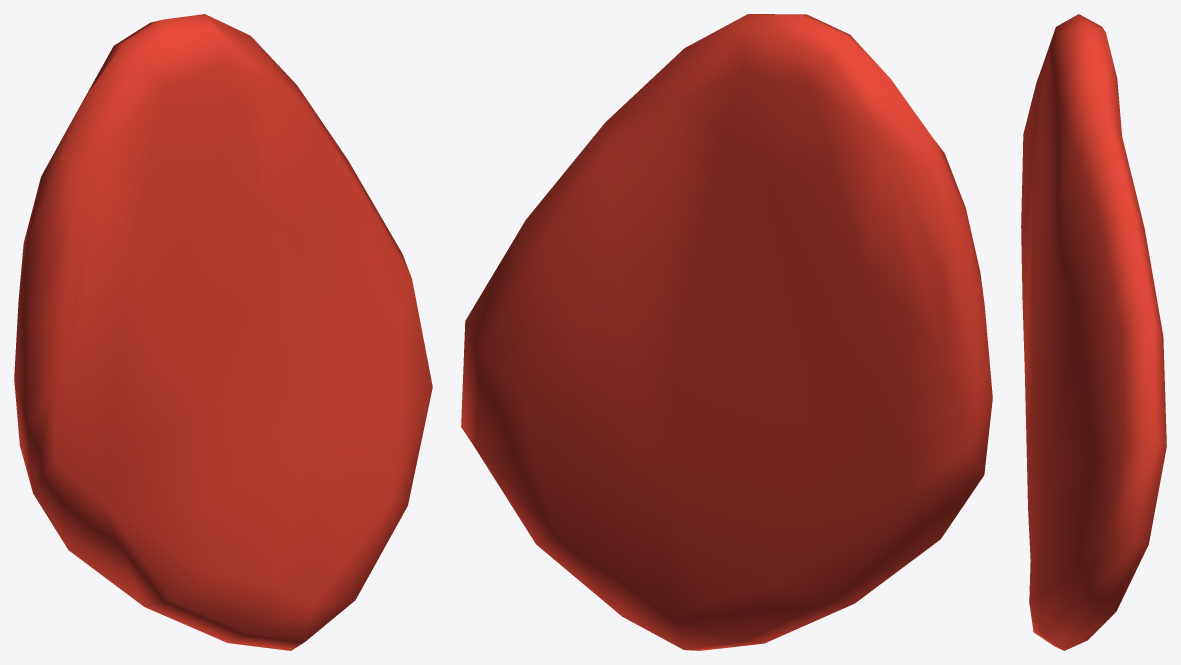
File: Flexor_pollicis_longus-Ulnar_insertion.l_Generated_Mesh_From_X3.glb
3 renders of one model, left to right at view 1: azimuth 30°, elevation 25°; view 2: azimuth 150°, elevation 25°; view 3: azimuth 270°, elevation 25°, orthographic. The views are drawn at different scales.
Parts seen in each view (by area): view 1: Flexor_pollicis_longus-Ulnar_insertion.l_Generated_Mesh_From; view 2: Flexor_pollicis_longus-Ulnar_insertion.l_Generated_Mesh_From; view 3: Flexor_pollicis_longus-Ulnar_insertion.l_Generated_Mesh_From.
Part boxes in pixels (x1,y1,x2,y2): Flexor_pollicis_longus-Ulnar_insertion.l_Generated_Mesh_From: [14, 14, 432, 650]; Flexor_pollicis_longus-Ulnar_insertion.l_Generated_Mesh_From: [461, 14, 992, 650]; Flexor_pollicis_longus-Ulnar_insertion.l_Generated_Mesh_From: [1021, 14, 1166, 650].
Bounding box in the file's own units: 0.00343 × 0.00467 × 0.00107.
